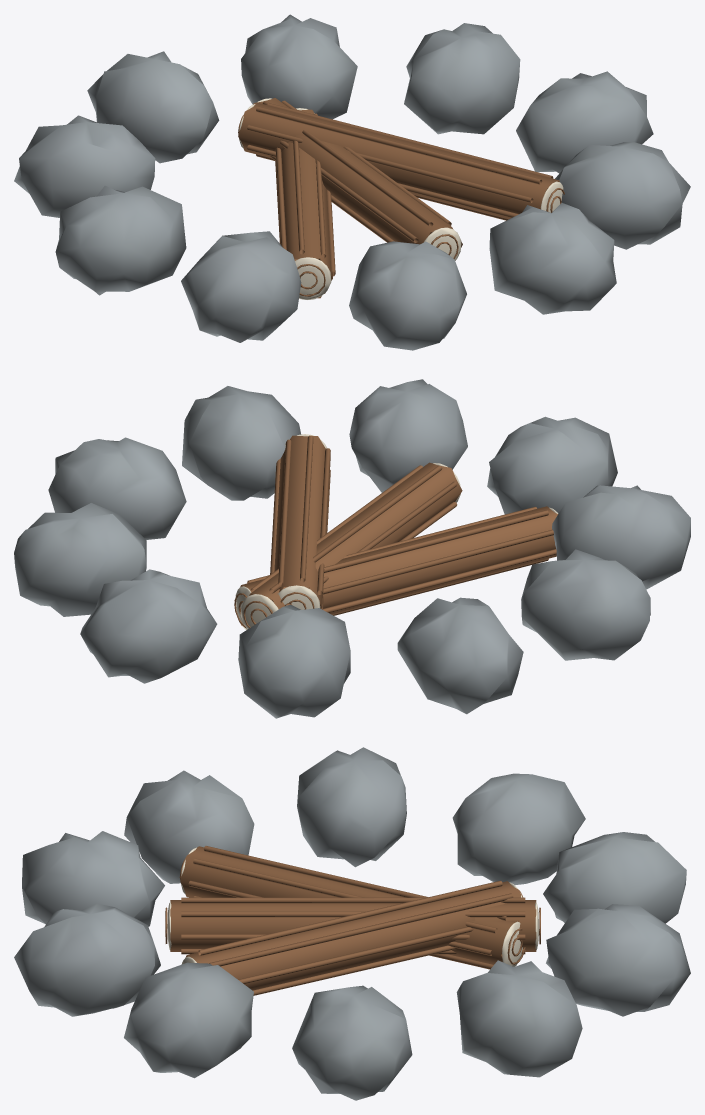
File: camp.glb
3 views of the same model, one above another, from view 1: azimuth 30°, elevation 25°; view 2: azimuth 150°, elevation 25°; view 3: azimuth 270°, elevation 25° (orthographic). The views are drawn at different scales.
Parts seen in each view (by area): view 1: hearth stone, rough bark, cut end grain; view 2: hearth stone, rough bark, cut end grain; view 3: hearth stone, rough bark, cut end grain.
Boxes of the visible parts, x1,y1,x2,y2 form: hearth stone: (14, 14, 690, 350); rough bark: (238, 98, 564, 298); cut end grain: (239, 98, 563, 299); hearth stone: (14, 379, 690, 718); rough bark: (234, 435, 557, 628); cut end grain: (235, 434, 558, 629); hearth stone: (14, 747, 690, 1100); rough bark: (165, 846, 540, 995); cut end grain: (167, 847, 538, 966).
Bounding box in the file's own units: 2.16 × 0.3468 × 2.07.
